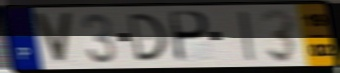3: (260, 7, 299, 64), (81, 11, 117, 64)
D: (126, 12, 169, 64)
I: (237, 9, 259, 63)
P: (170, 10, 212, 65)
V: (31, 11, 75, 66)
